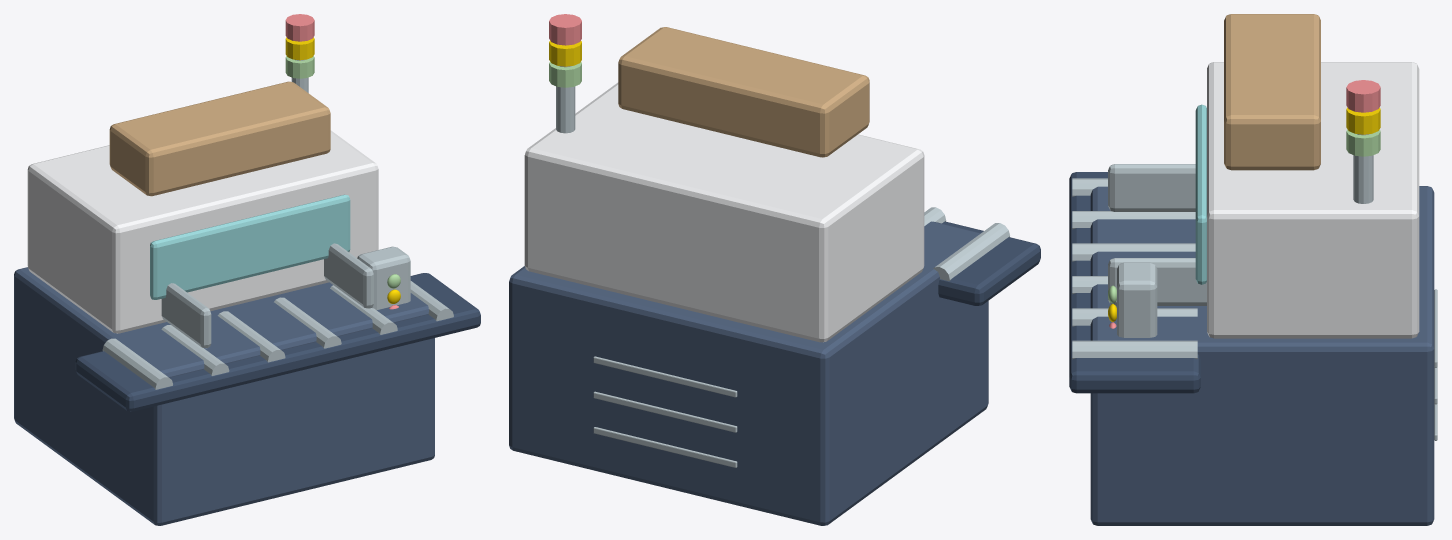
Rendered from machine-pack.glb.
3 renders of one model, left to right at view 1: azimuth 30°, elevation 25°; view 2: azimuth 150°, elevation 25°; view 3: azimuth 270°, elevation 25°, orthographic. The views are drawn at different scales.
Parts seen in each view (by area): view 1: Machine pedestal.005, Upper body.005, Folding head, Safety visor.005, Console.005, Belt.013, Control button.017, Control button.016, Control button.015; view 2: Machine pedestal.005, Upper body.005, Folding head, Console.005, Belt.013, Control button.017, Control button.016, Control button.015; view 3: Machine pedestal.005, Upper body.005, Console.005, Folding head, Belt.013, Safety visor.005, Control button.017, Control button.016, Control button.015.
Boxes of the visible parts, box(x1,y1,x2,y2) form: Machine pedestal.005: box(14, 267, 434, 525); Upper body.005: box(27, 130, 378, 333); Folding head: box(109, 81, 330, 196); Safety visor.005: box(150, 194, 350, 299); Console.005: box(102, 59, 453, 389); Belt.013: box(75, 273, 480, 411); Control button.017: box(285, 14, 398, 309); Control button.016: box(285, 37, 400, 303); Control button.015: box(285, 56, 400, 288); Machine pedestal.005: box(509, 221, 988, 525); Upper body.005: box(524, 82, 924, 342); Folding head: box(618, 27, 869, 157); Console.005: box(556, 66, 1009, 467); Belt.013: box(938, 221, 1040, 305); Control button.017: box(549, 14, 581, 45); Control button.016: box(549, 40, 581, 66); Control button.015: box(549, 62, 581, 87); Machine pedestal.005: box(1090, 186, 1434, 525); Upper body.005: box(1207, 62, 1419, 338); Console.005: box(1072, 134, 1437, 440); Folding head: box(1224, 14, 1320, 170); Belt.013: box(1069, 172, 1200, 393); Safety visor.005: box(1195, 104, 1206, 284); Control button.017: box(1109, 80, 1380, 328); Control button.016: box(1108, 107, 1380, 321); Control button.015: box(1108, 129, 1380, 303).
Bounding box in the file's own units: 2.4 × 2.34 × 1.82.
